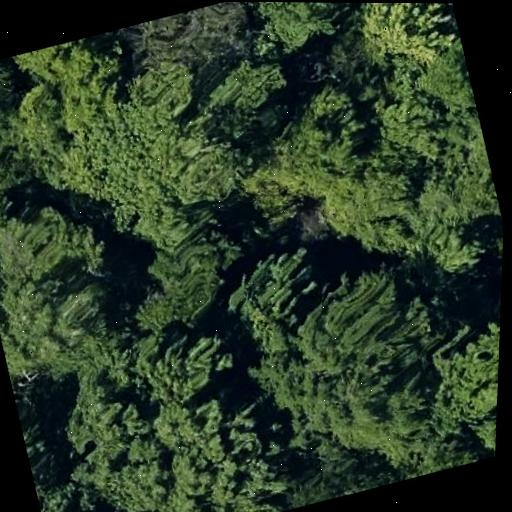tree-top: (232, 255, 451, 468), (51, 54, 244, 256), (0, 190, 141, 383), (218, 81, 375, 227), (138, 381, 297, 512), (113, 216, 248, 331), (309, 144, 427, 270), (0, 33, 119, 136), (53, 358, 153, 478), (108, 1, 263, 78), (119, 318, 240, 411), (418, 312, 501, 435), (333, 2, 465, 77), (280, 442, 402, 510), (236, 2, 374, 62), (373, 78, 459, 168), (0, 132, 44, 228), (468, 199, 505, 305), (37, 479, 133, 512), (0, 55, 33, 147), (463, 393, 498, 461)
